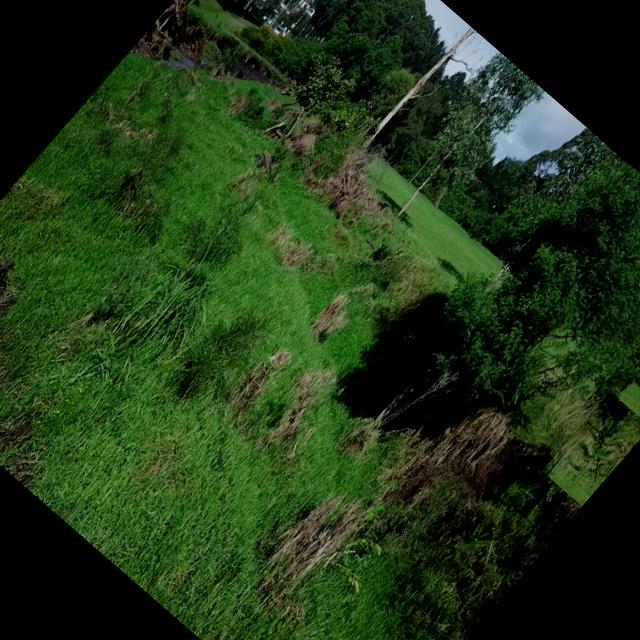Mysore-Thorn-Weed: (541, 391, 640, 506), (449, 511, 501, 564), (500, 466, 551, 518)
